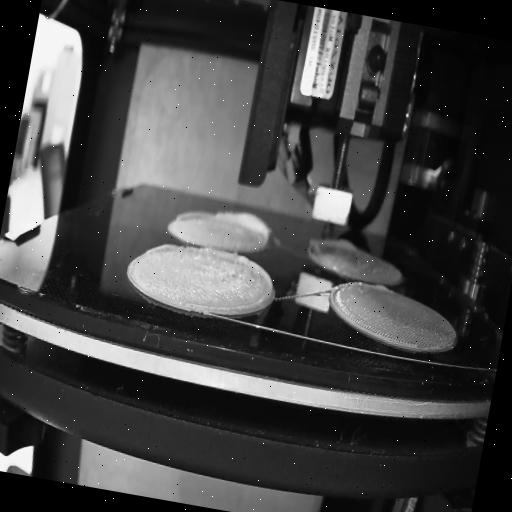over_extrusion: (194, 245, 278, 325), (206, 206, 277, 242), (304, 230, 360, 258), (142, 235, 176, 263), (172, 203, 208, 227), (368, 282, 392, 294)
